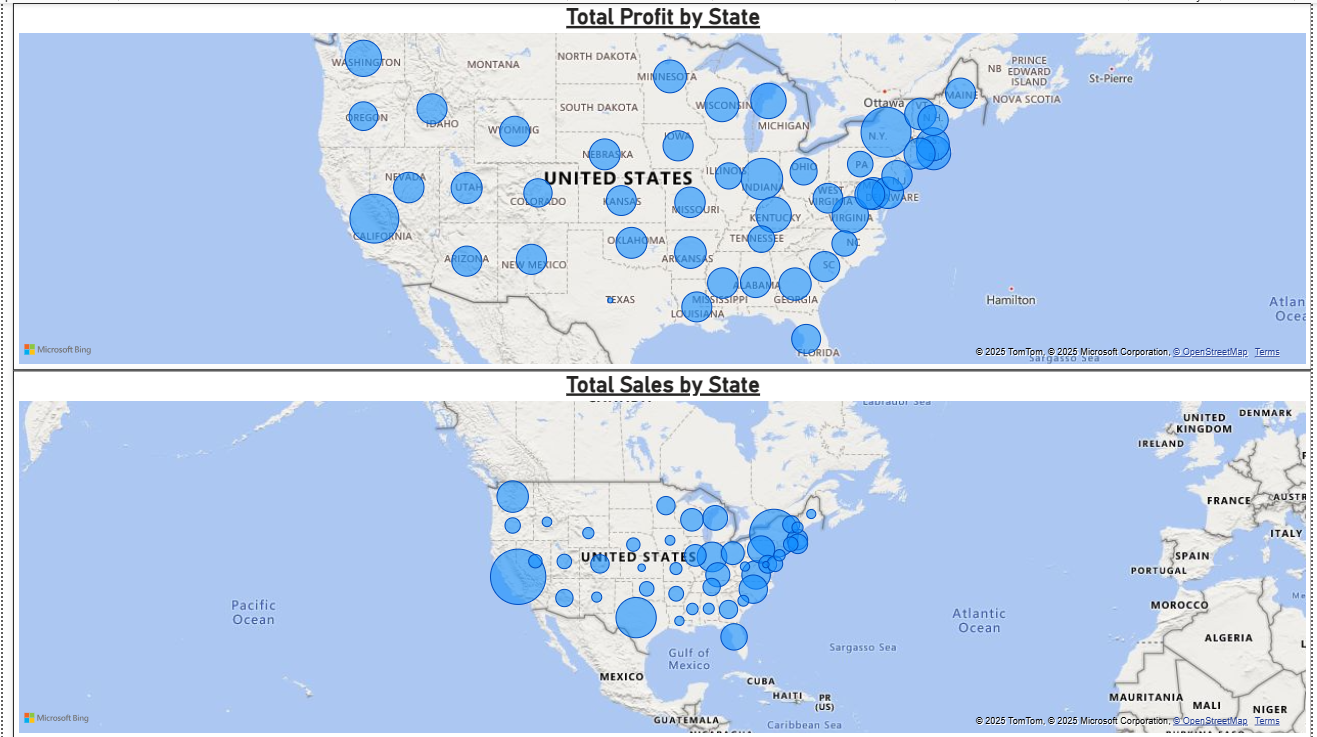

Layout of this report page (visuals, bound fields, positions):
{"tool":"powerbi","page":{"name":"Page 3","canvas":[1280,720],"ordinal":2},"visuals":[{"type":"map","title":"Total Profit by State","fields":{"Size":["Sum(Superstore Sale..Profit)"],"Category":["Superstore Sale..State"]},"box":[9.8,0,1270.5,359.5],"z":0},{"type":"map","title":"Total Sales by State","fields":{"Category":["Superstore Sale..State"],"Size":["Sum(Superstore Sale..Sales)"]},"box":[9.8,359.5,1270.5,360.7],"z":1000}]}

Visuals, with their boxes in screenshot pixels (x1, y1, x2, y2), scaled from the page's 1280x720 canvas onto the 1317x737 screenshot:
"Total Profit by State" map: bbox(10, 0, 1316, 368)
"Total Sales by State" map: bbox(10, 368, 1316, 736)
